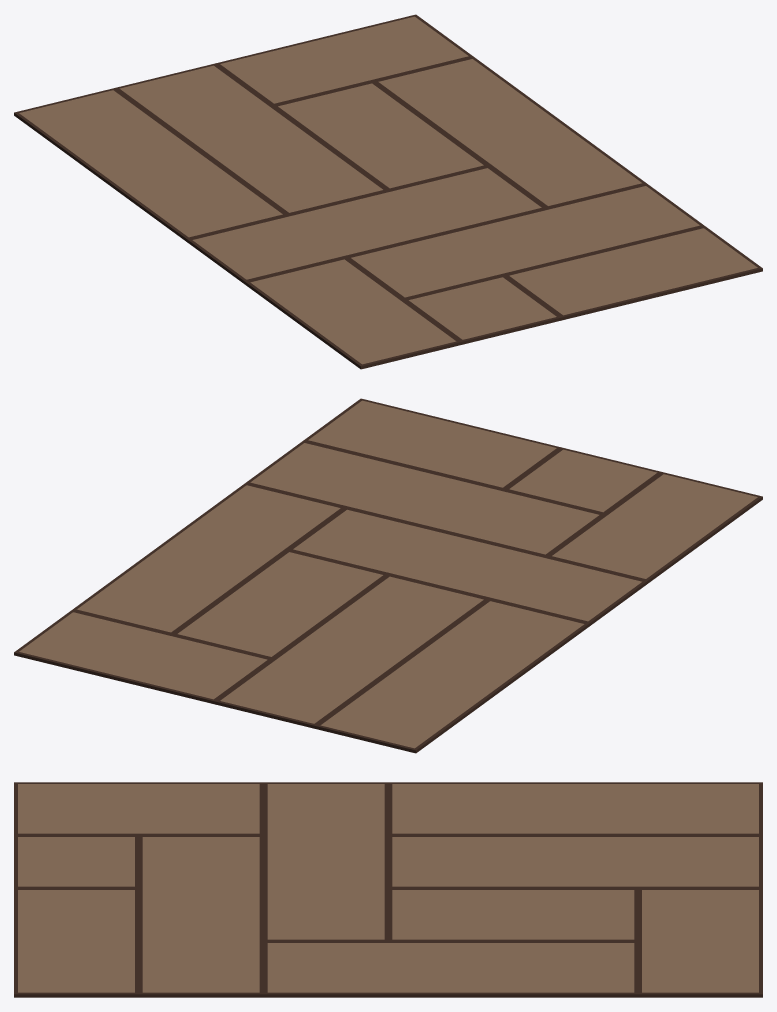
The model's file is set_2_floor.glb.
3 renders of one model, top to bottom at view 1: azimuth 30°, elevation 25°; view 2: azimuth 150°, elevation 25°; view 3: azimuth 270°, elevation 25°, orthographic. The views are drawn at different scales.
Visible parts, largest first — view 1: Floor2; view 2: Floor2; view 3: Floor2.
Boxes of the visible parts, left/top/right/bottom form: Floor2: left=14, top=14, right=762, bottom=369; Floor2: left=14, top=398, right=762, bottom=753; Floor2: left=14, top=782, right=762, bottom=997.
Size of the model in its own units: 5.17 by 0.0371 by 7.72.
